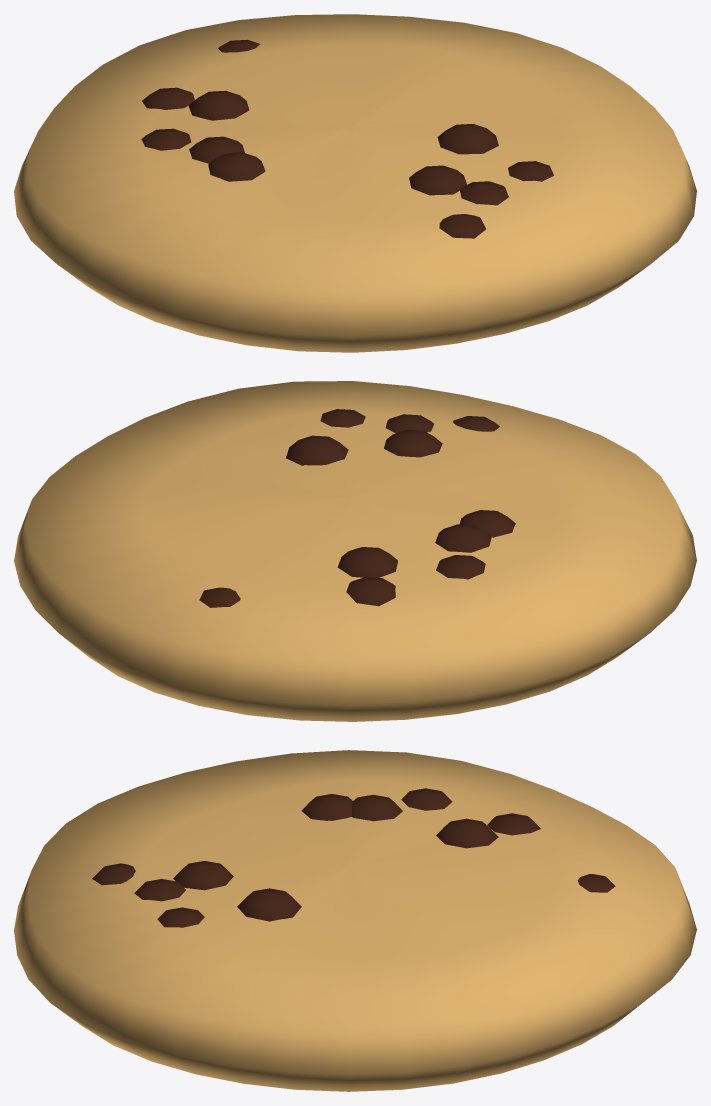
The model's file is chocolate-chip-cookie.glb.
3 views of the same model, one above another, from view 1: azimuth 30°, elevation 25°; view 2: azimuth 150°, elevation 25°; view 3: azimuth 270°, elevation 25° (orthographic).
Parts seen in each view (by area): view 1: edible_cookie, edible_chip.028, edible_chip.023, edible_chip.022, edible_chip.029, edible_chip.025, edible_chip.032, edible_chip.024, edible_chip.031, edible_chip.026, edible_chip.027; view 2: edible_cookie, edible_chip.023, edible_chip.028, edible_chip.025, edible_chip.022, edible_chip.024, edible_chip.029, edible_chip.026, edible_chip.032, edible_chip.027, edible_chip.030, edible_chip.031; view 3: edible_cookie, edible_chip.028, edible_chip.023, edible_chip.022, edible_chip.029, edible_chip.025, edible_chip.024, edible_chip.026, edible_chip.032, edible_chip.027, edible_chip.031, edible_chip.030.
Boxes of the visible parts, x1,y1,x2,y2 form: edible_cookie: (14,14,696,352); edible_chip.028: (437,124,498,154); edible_chip.023: (188,90,249,120); edible_chip.022: (409,165,467,195); edible_chip.029: (208,152,265,181); edible_chip.025: (189,136,244,163); edible_chip.032: (460,181,508,205); edible_chip.024: (142,87,194,109); edible_chip.031: (439,214,485,238); edible_chip.026: (141,128,191,150); edible_chip.027: (508,161,553,181); edible_cookie: (14,381,696,721); edible_chip.023: (337,547,397,577); edible_chip.028: (286,435,348,465); edible_chip.025: (435,524,491,552); edible_chip.022: (384,430,442,457); edible_chip.024: (346,577,395,606); edible_chip.029: (459,510,515,537); edible_chip.026: (436,555,485,579); edible_chip.032: (385,414,433,433); edible_chip.027: (320,409,365,427); edible_chip.030: (199,587,240,607); edible_chip.031: (453,416,499,431); edible_cookie: (14,750,696,1091); edible_chip.028: (237,888,301,921); edible_chip.023: (436,818,498,848); edible_chip.022: (173,861,233,890); edible_chip.029: (301,794,352,820); edible_chip.025: (351,794,402,821); edible_chip.024: (487,813,540,835); edible_chip.026: (401,788,452,810); edible_chip.032: (134,879,185,901); edible_chip.027: (157,907,204,927); edible_chip.031: (92,863,135,885); edible_chip.030: (577,874,615,892).
Size of the model in its own units: 0.098 by 0.0177 by 0.098.
